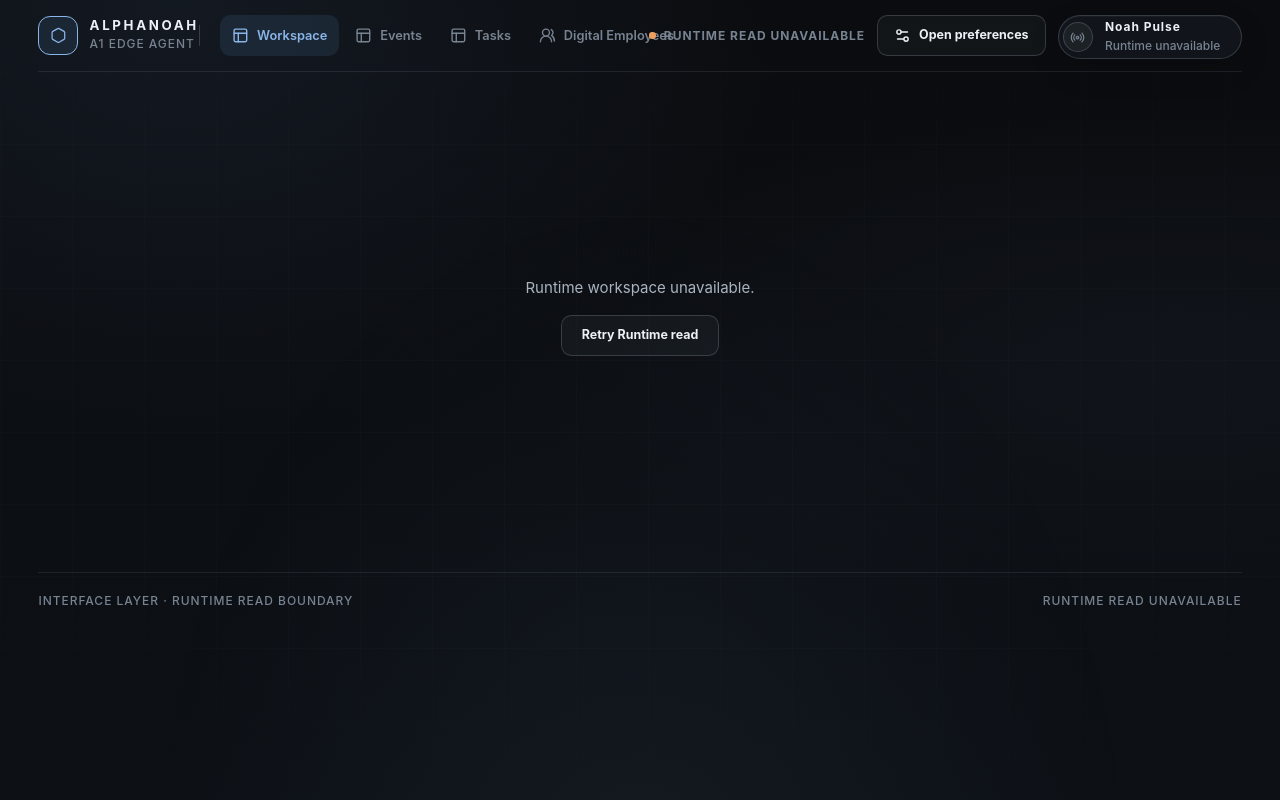
F03-D2 Runtime Projection application integration › shows HTTP errors without falling back to any Mock projection
Check: the text "Runtime workspace unavailable." is shown, box x1=525 y1=276 x2=754 y2=299
Check: the element named "Interface status" reads "Runtime read unavailable", box x1=664 y1=28 x2=865 y2=43
Click the link "Digital Employees": (607, 36) x1=539 y1=27 x2=674 y2=44
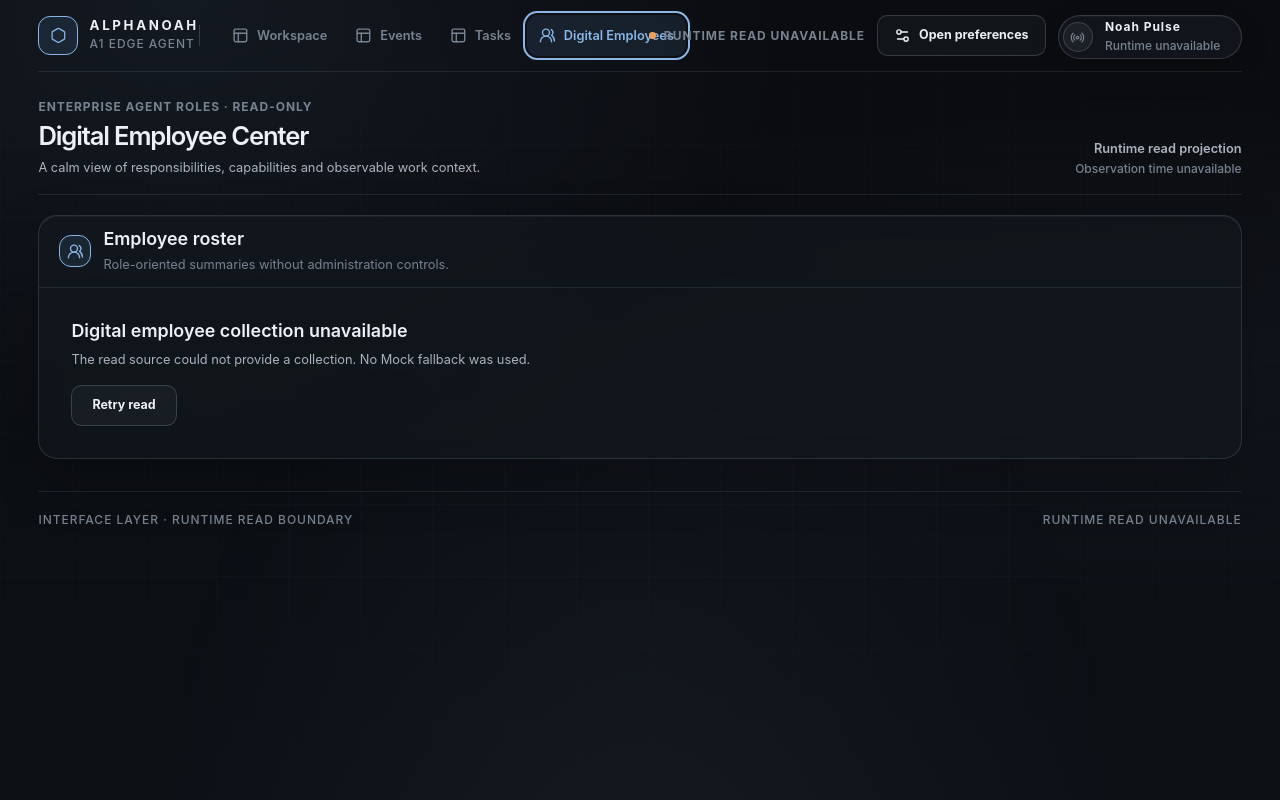
Check: the message that starts with "Digital employee collection unavailable" is shown, box x1=71 y1=320 x2=408 y2=341
